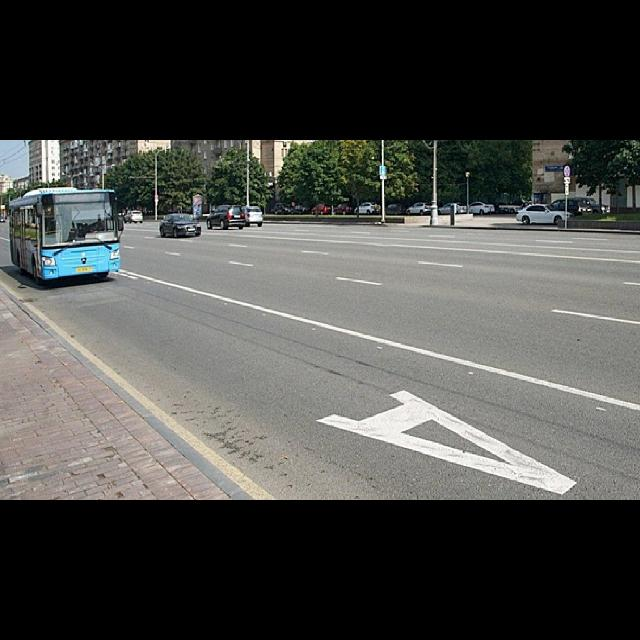road: (0, 222, 640, 500)
